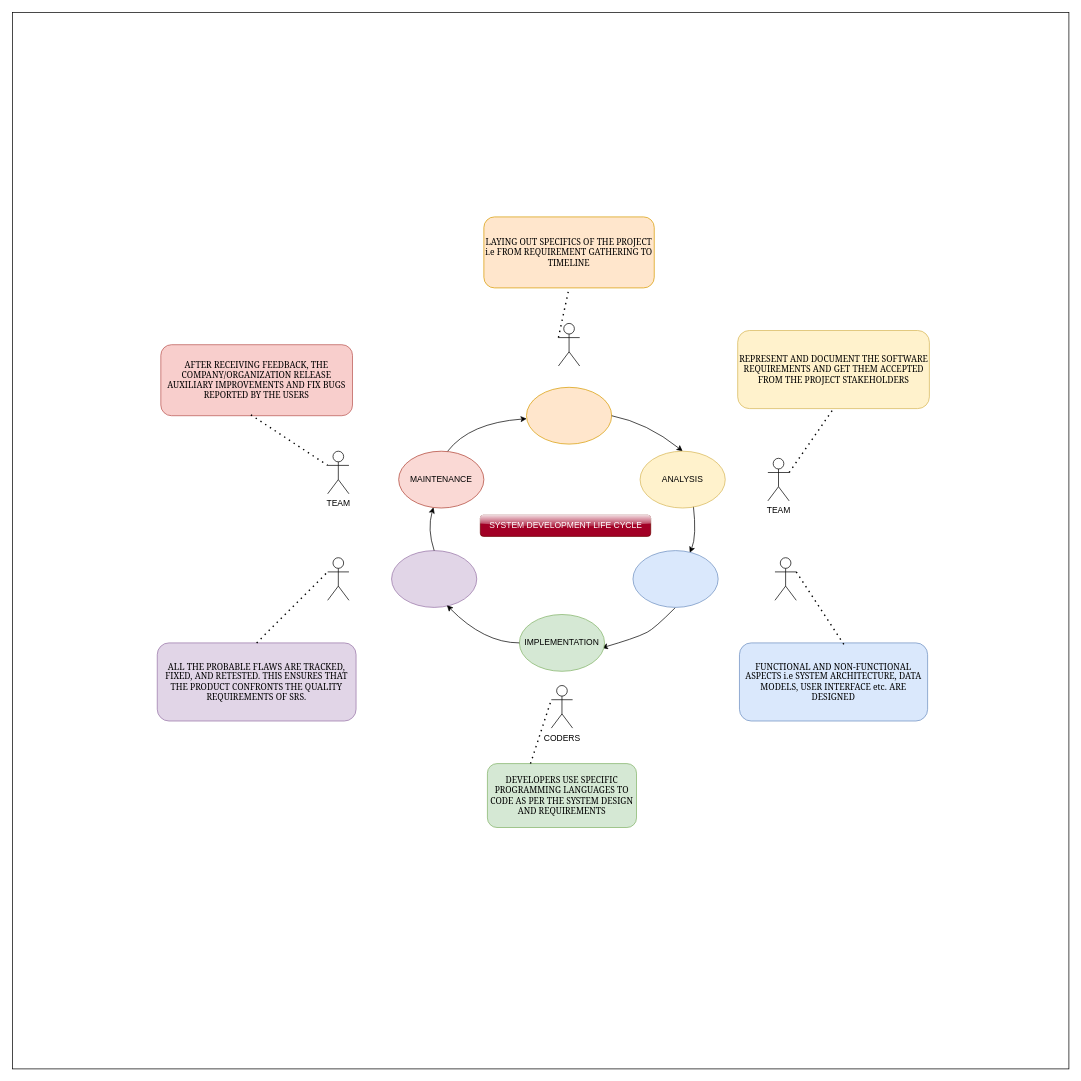
This 1081x1081 diagram has some shape labels left out. Each missing label, with the centre of its shape:
"DESIGN" belongs at pixel 675 578.
"DESIGNERS" belongs at pixel 785 578.
"PLANNERS" belongs at pixel 569 344.
"PLANNING" belongs at pixel 569 415.
"TESTERS" belongs at pixel 338 578.
"TESTING" belongs at pixel 434 578.
